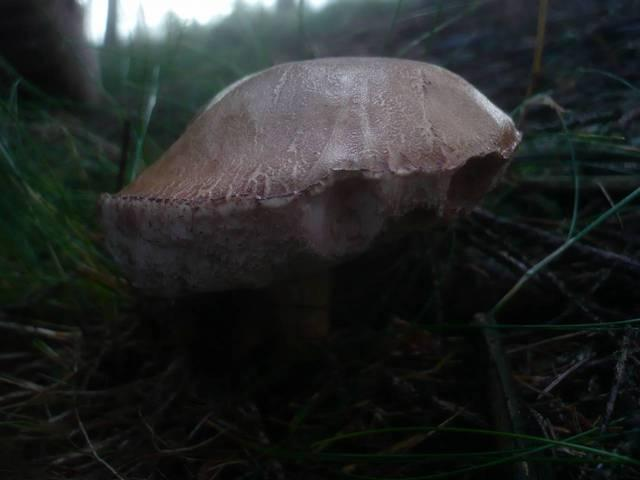poisonous_mushroom: (98, 53, 523, 346)
